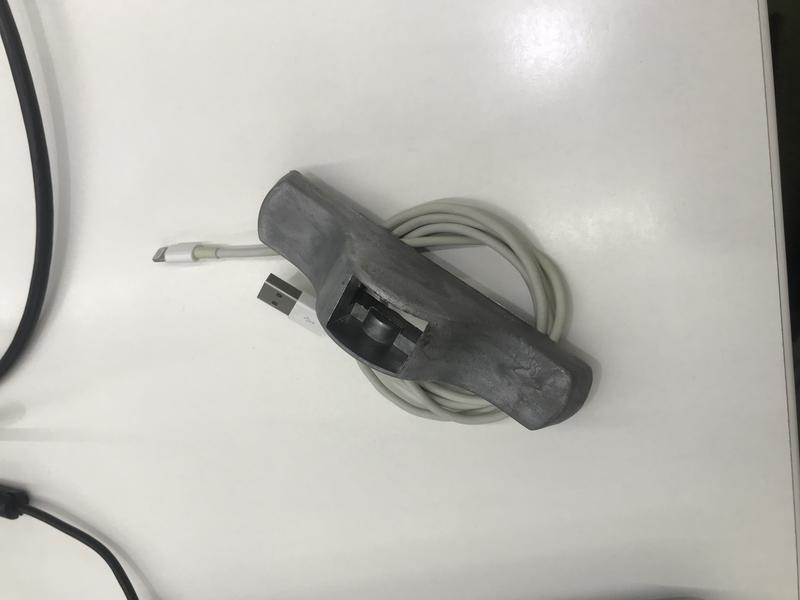zapchast: (243, 164, 604, 440)
